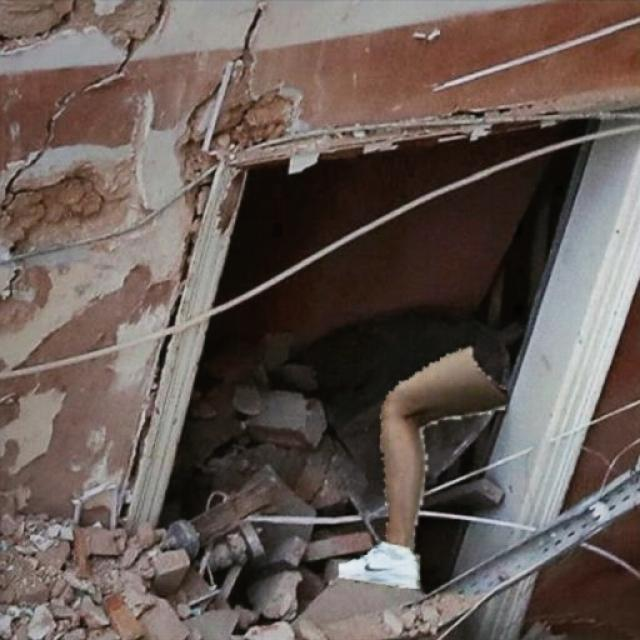Person in Rubble: (338, 347, 506, 588)
